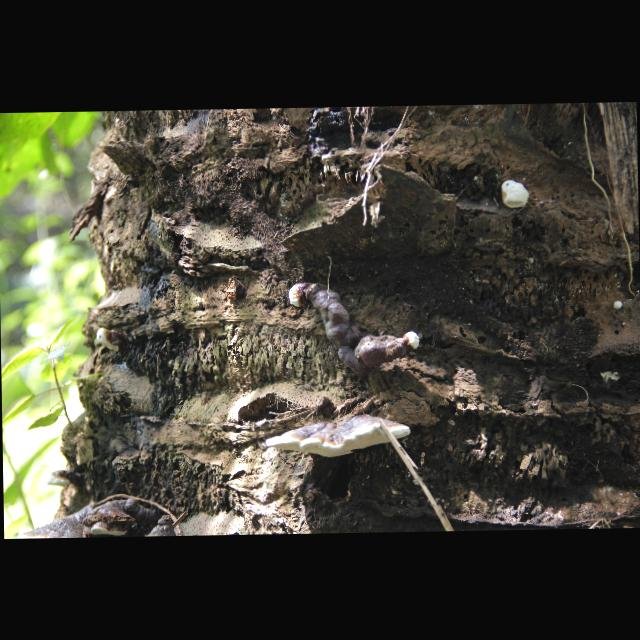ganoderma: (309, 283, 404, 381), (266, 412, 411, 460), (83, 497, 158, 538), (16, 502, 97, 539), (46, 470, 85, 489)
primordium: (500, 198, 529, 227), (98, 328, 128, 354), (290, 283, 310, 308), (404, 331, 421, 352), (614, 302, 623, 311)
